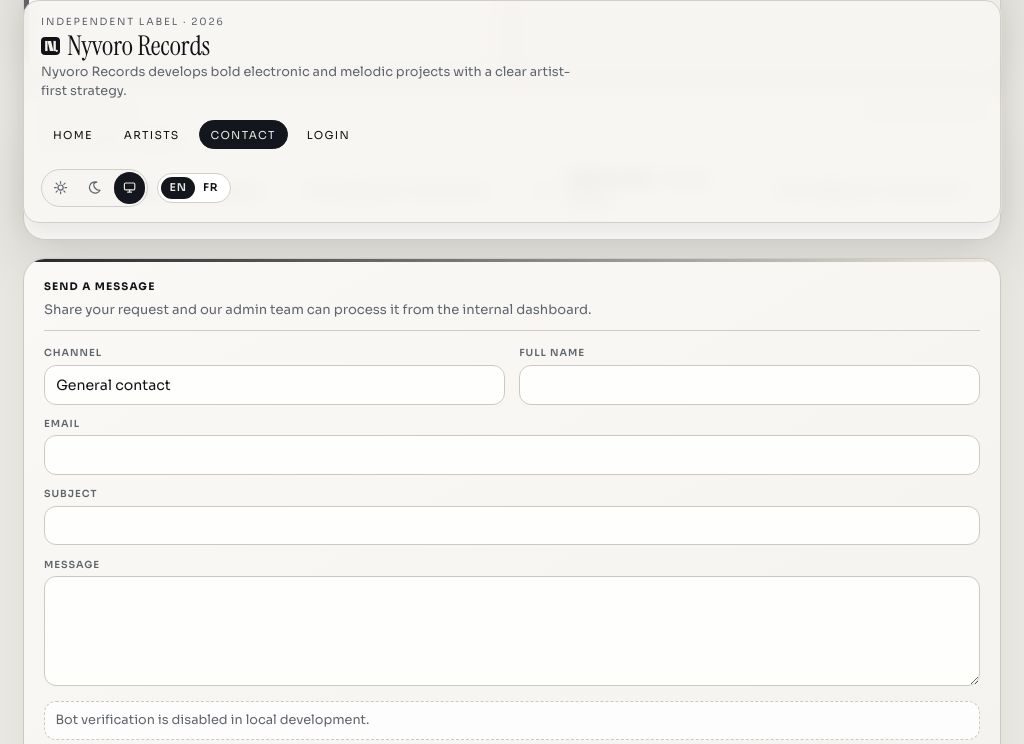
it: contact page › renders and submits the contact form successfully
The image size is (1024, 744).
(page scrolled)
Type "Alex Rivera" into the field labelled "Full name" at (750,385), box [519,365,980,405]
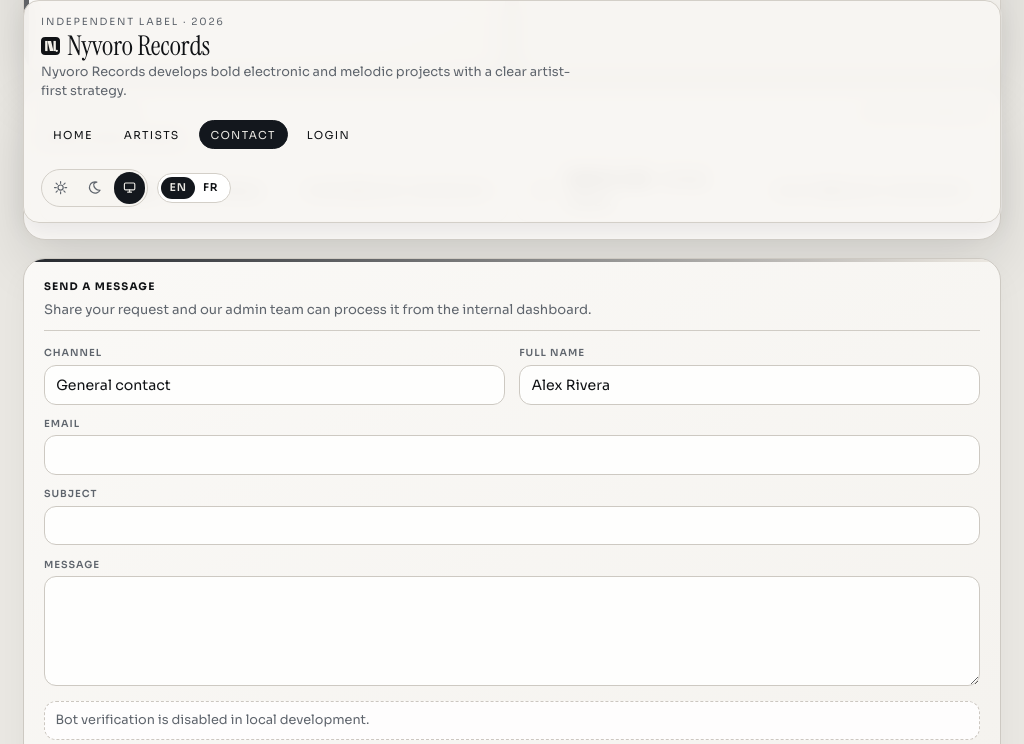
Type "alex.rivera@example.com" into the field labelled "Email" at (512,455), box [44,435,980,475]
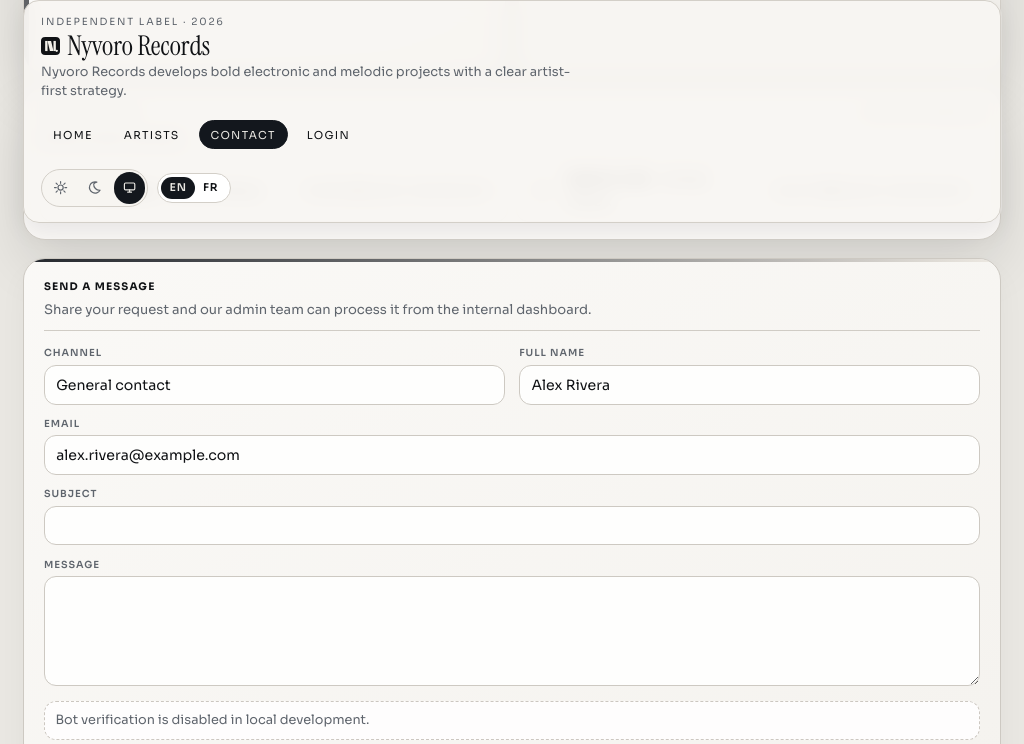
Type "Partnership request" into the field labelled "Subject" at (512,526), box [44,506,980,545]
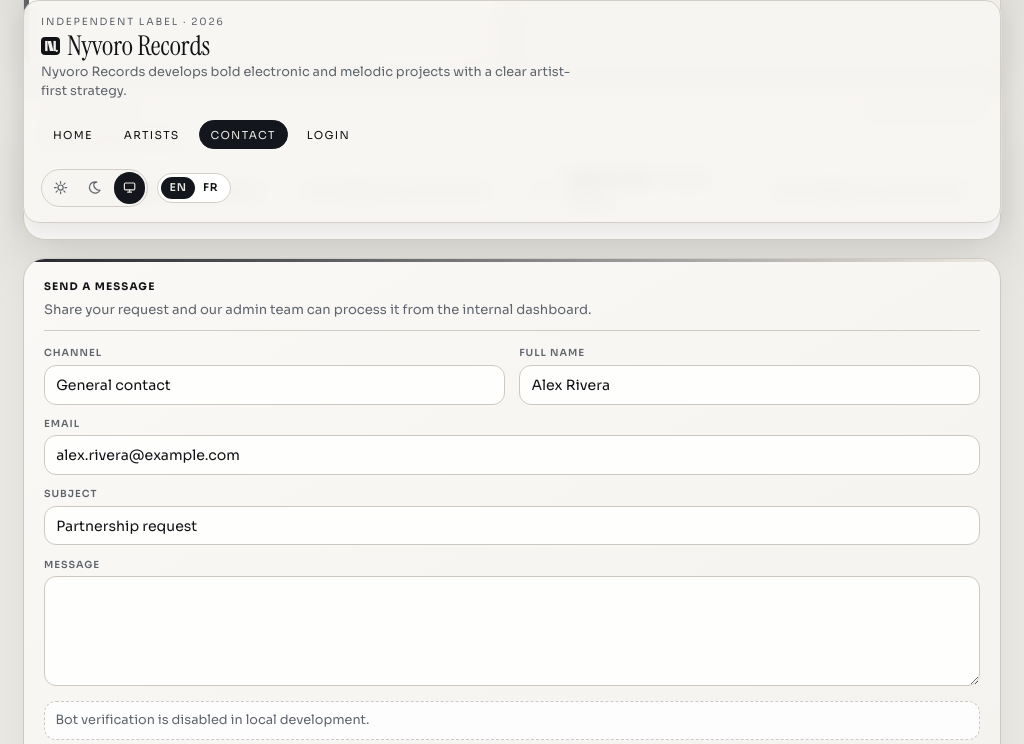
Type "Hello Nyvoro team, I would like to discuss a potential collaboration for an upcoming event." into the text box labelled "Message" at (512,631), box [44,576,980,686]
(page scrolled)
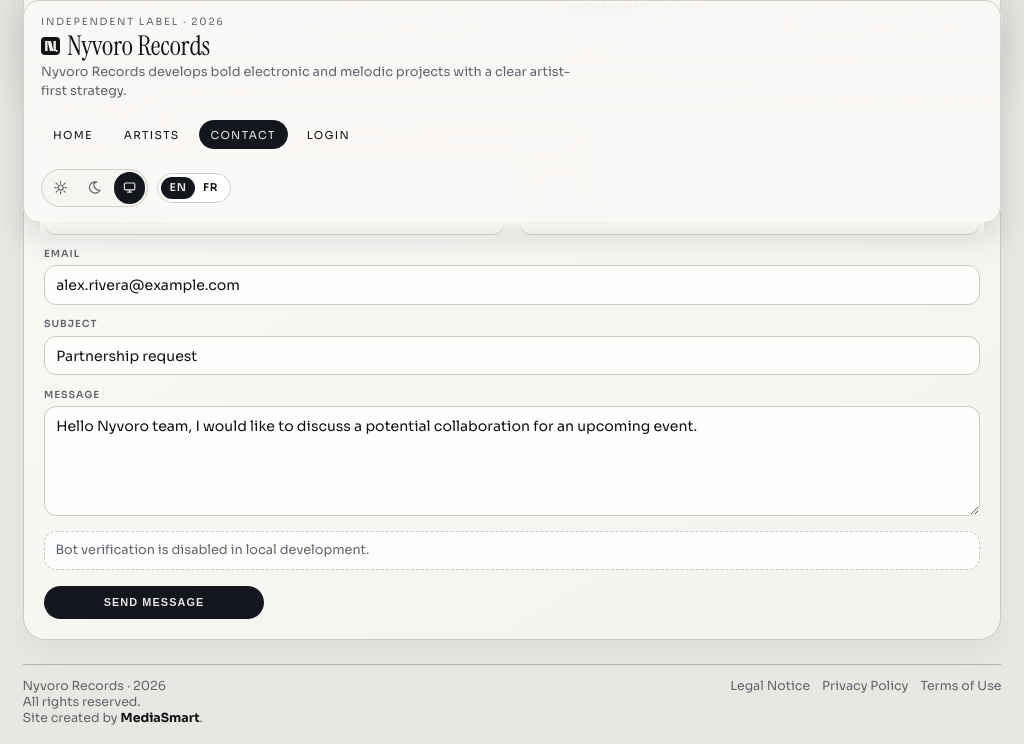
Expected: the button "Send message" is enabled
Click the button "Send message" at (154,602), box [44,586,264,619]
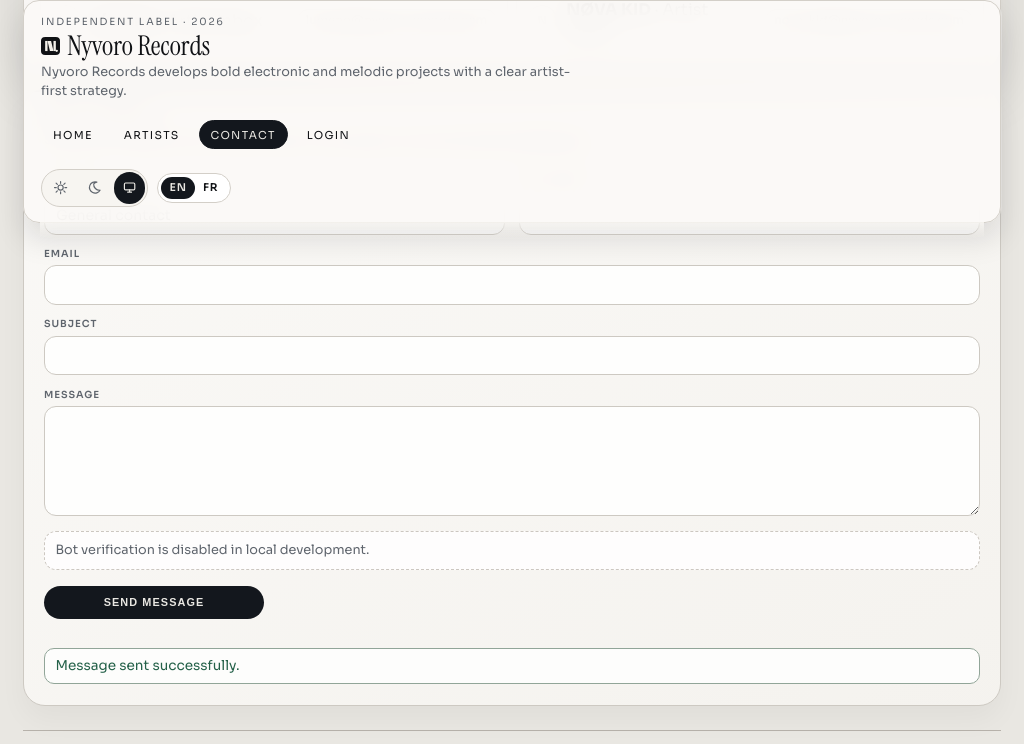
Expected: the text "Message sent successfully." is shown, [44,648,980,684]
